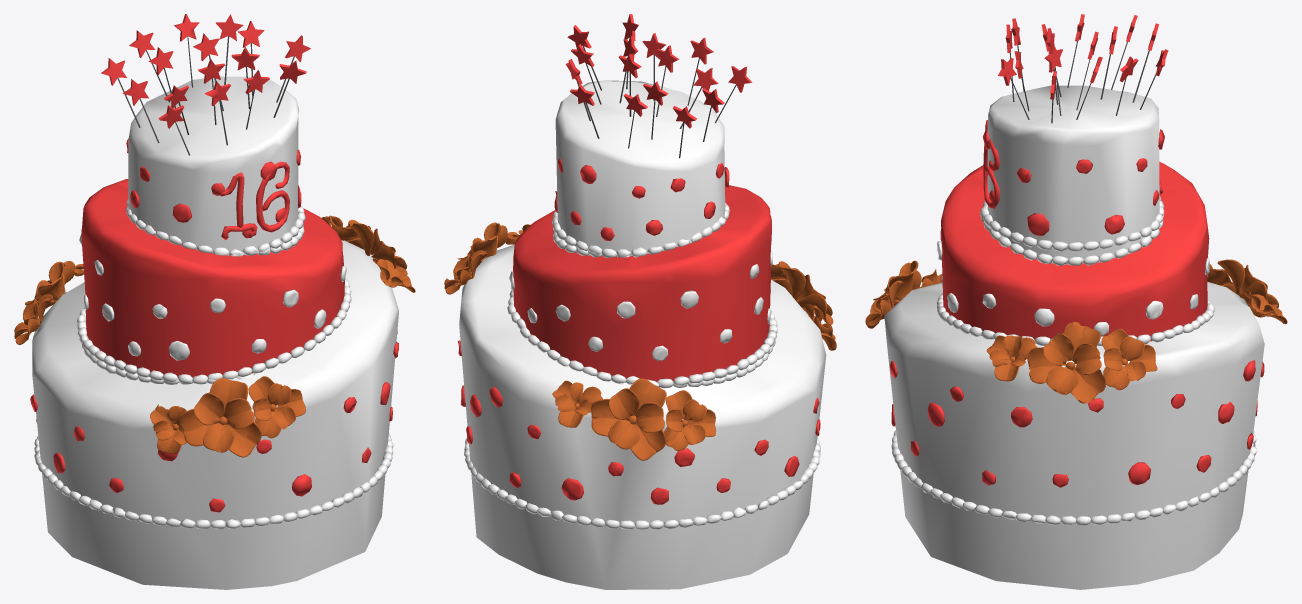
The picture shows the model from 3 angles, left to right: view 1: azimuth 30°, elevation 25°; view 2: azimuth 150°, elevation 25°; view 3: azimuth 270°, elevation 25°; orthographic projection. The views are drawn at different scales.
Parts seen in each view (by area): view 1: CAKE_BOTTOM, CAKE_MIDDLE, CAKE_TOP, FLOWERS_2Z, FLOWERS_3Z, BORDER_LEANED_MIDDLE, FLOWERS_1, BORDER_STRAIGHT_MIDDLE, BORDER_LEANED_TOP, BORDER_STRAIGHT_TOP, DOTS_TOP_ADD; view 2: CAKE_BOTTOM, CAKE_MIDDLE, CAKE_TOP, FLOWERS_1, FLOWERS_2Z, BORDER_LEANED_MIDDLE, FLOWERS_3Z, BORDER_STRAIGHT_MIDDLE, BORDER_LEANED_TOP, BORDER_STRAIGHT_TOP; view 3: CAKE_BOTTOM, CAKE_TOP, CAKE_MIDDLE, FLOWERS_3Z, FLOWERS_1, BORDER_STRAIGHT_TOP, FLOWERS_2Z, BORDER_LEANED_MIDDLE, BORDER_LEANED_TOP.
Boxes of the visible parts, x1,y1,x2,y2 form: CAKE_BOTTOM: (30, 240, 398, 589); CAKE_MIDDLE: (79, 179, 346, 382); CAKE_TOP: (101, 14, 310, 254); FLOWERS_2Z: (150, 376, 305, 457); FLOWERS_3Z: (321, 215, 415, 292); BORDER_LEANED_MIDDLE: (79, 279, 351, 384); FLOWERS_1: (14, 261, 83, 344); BORDER_STRAIGHT_MIDDLE: (77, 307, 257, 384); BORDER_LEANED_TOP: (125, 199, 304, 255); BORDER_STRAIGHT_TOP: (227, 206, 305, 256); DOTS_TOP_ADD: (211, 161, 285, 238); CAKE_BOTTOM: (458, 245, 826, 589); CAKE_MIDDLE: (509, 185, 772, 381); CAKE_TOP: (554, 14, 752, 256); FLOWERS_1: (552, 378, 716, 460); FLOWERS_2Z: (771, 261, 836, 350); BORDER_LEANED_MIDDLE: (507, 288, 775, 388); FLOWERS_3Z: (444, 222, 530, 294); BORDER_STRAIGHT_MIDDLE: (614, 308, 777, 387); BORDER_LEANED_TOP: (553, 203, 729, 257); BORDER_STRAIGHT_TOP: (552, 211, 638, 257); CAKE_BOTTOM: (884, 282, 1264, 589); CAKE_TOP: (983, 14, 1168, 264); CAKE_MIDDLE: (937, 161, 1209, 343); FLOWERS_3Z: (986, 321, 1157, 403); FLOWERS_1: (1207, 259, 1287, 324); BORDER_STRAIGHT_TOP: (980, 200, 1164, 251); FLOWERS_2Z: (865, 260, 942, 328); BORDER_LEANED_MIDDLE: (936, 293, 1214, 345); BORDER_LEANED_TOP: (980, 195, 1164, 265).
Size of what is drawn, in the model's own units: 487 by 646 by 509.
